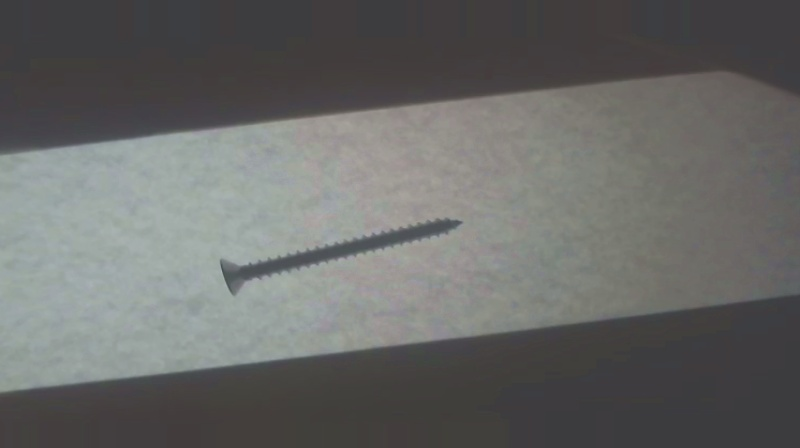S002: (215, 216, 469, 299)
